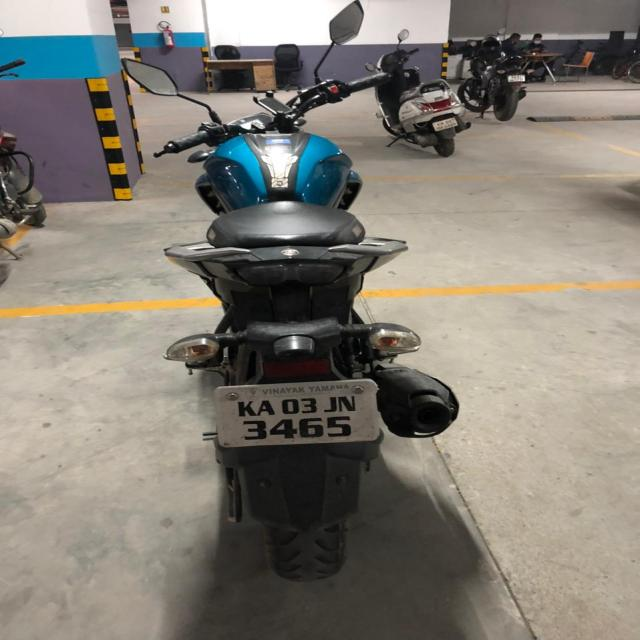license_plate: (212, 378, 380, 448)
